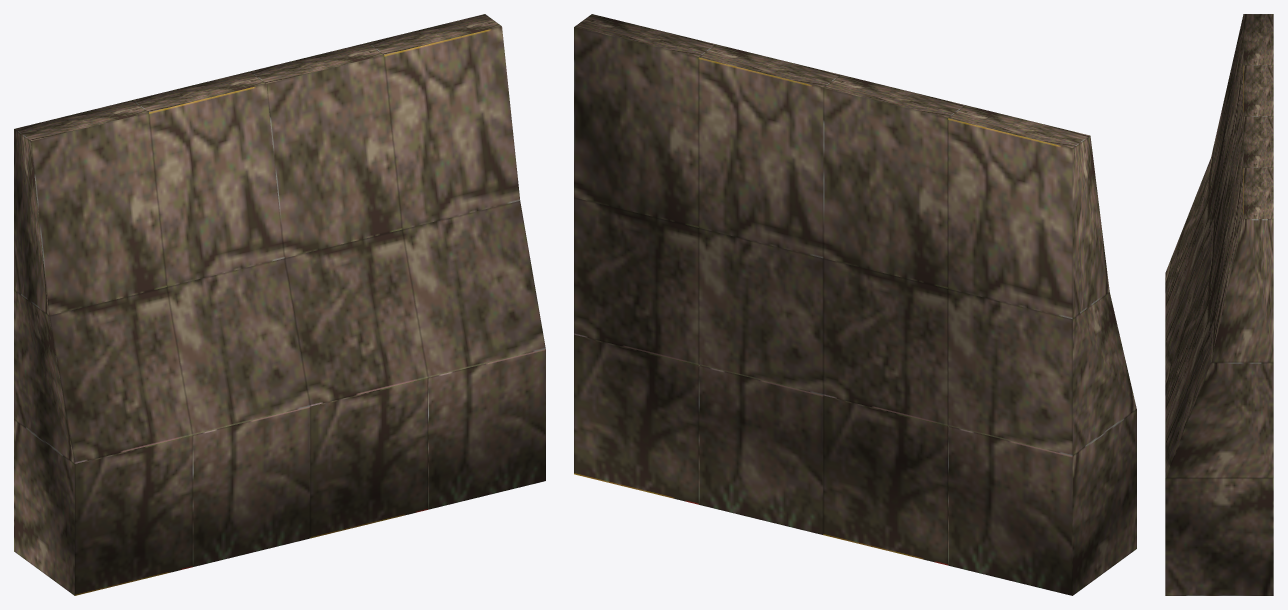
3 renders of one model, left to right at view 1: azimuth 30°, elevation 25°; view 2: azimuth 150°, elevation 25°; view 3: azimuth 270°, elevation 25°, orthographic. The views are drawn at different scales.
Parts seen in each view (by area): view 1: T1L8M005_15; view 2: T1L8M005_15; view 3: T1L8M005_15.
Part boxes in pixels (box(x1,y1,x2,y2)): T1L8M005_15: box(14, 14, 545, 595); T1L8M005_15: box(574, 14, 1136, 595); T1L8M005_15: box(1165, 14, 1273, 595).
Size of the model in its own units: 2.8 by 2.4 by 0.625.
